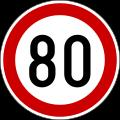Speed Limit -80-: (28, 32, 97, 90)
